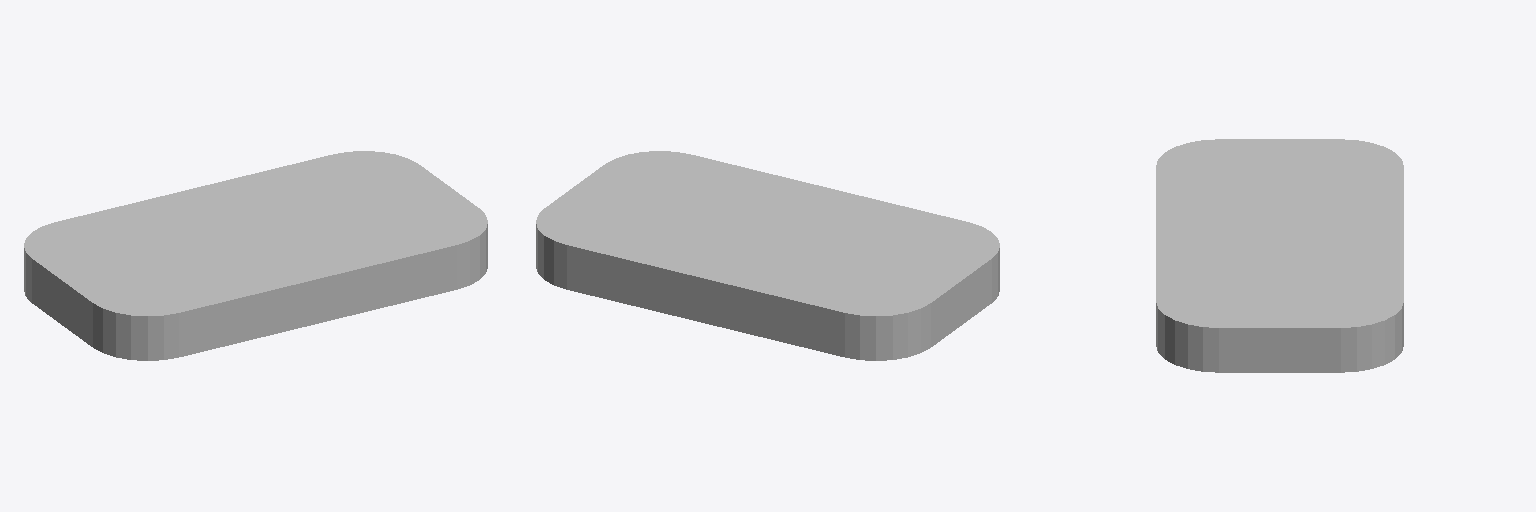
Rendered from original-41.obj.
The picture shows the model from 3 angles: view 1: azimuth 30°, elevation 25°; view 2: azimuth 150°, elevation 25°; view 3: azimuth 270°, elevation 25°; orthographic projection.
Parts seen in each view (by area): view 1: mesh40/mesh40-geometry#mesh40-geometry; view 2: mesh40/mesh40-geometry#mesh40-geometry; view 3: mesh40/mesh40-geometry#mesh40-geometry.
Boxes of the visible parts, x1,y1,x2,y2 form: mesh40/mesh40-geometry#mesh40-geometry: [24, 151, 487, 360]; mesh40/mesh40-geometry#mesh40-geometry: [536, 151, 999, 360]; mesh40/mesh40-geometry#mesh40-geometry: [1156, 139, 1403, 372].
Bounding box in the file's own units: 0.0581 × 0.0064 × 0.0322.